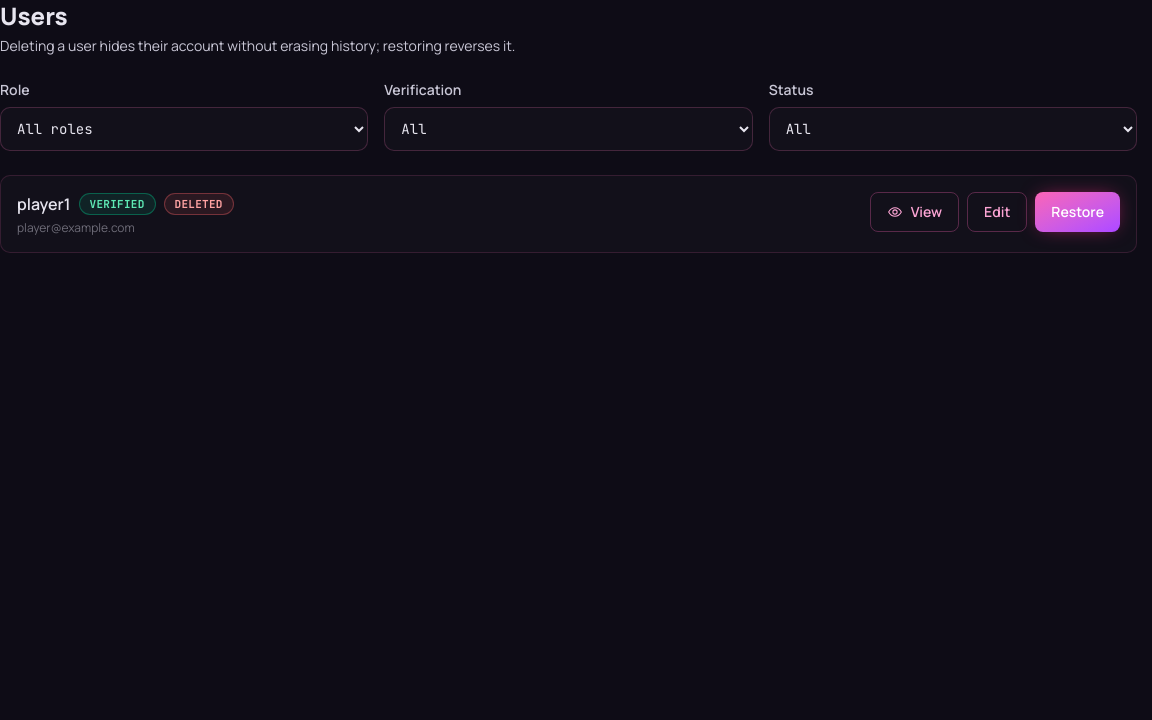
UsersPage › restores a deleted user after confirming
The image size is (1152, 720).
Click the button "Restore": (1078, 212) [1035,192,1120,232]
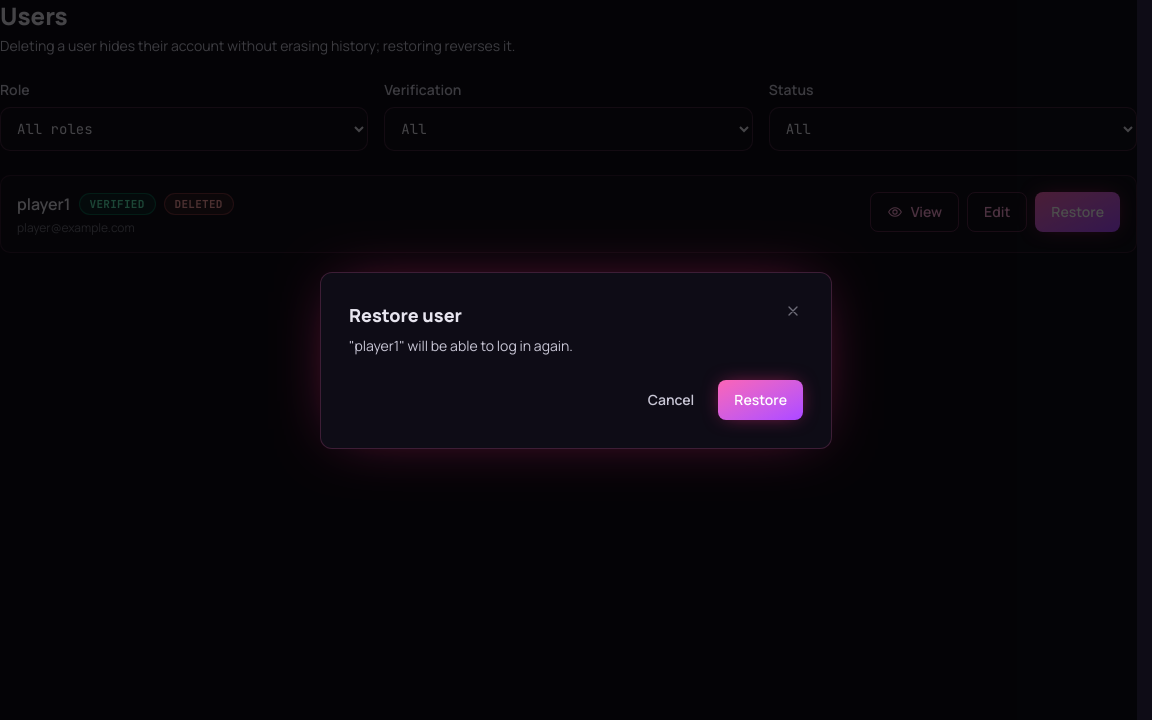
Click the button "Restore": (761, 400) [718,380,803,420]
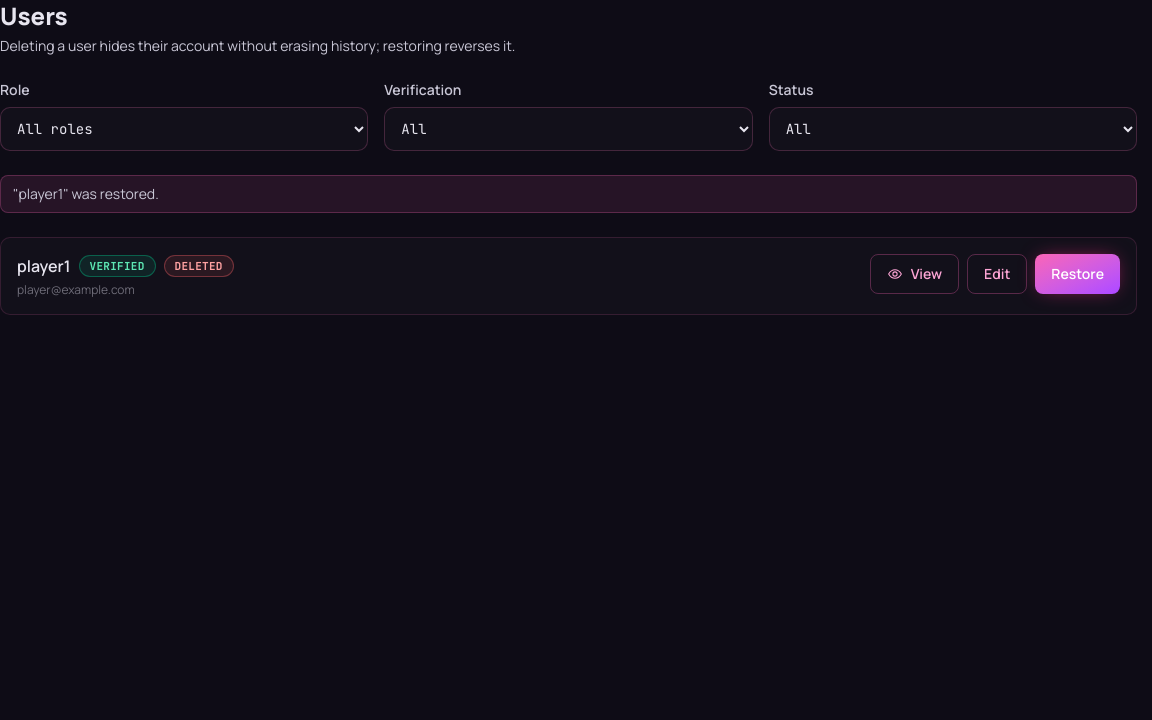
Now the text "\"player1\" was restored." is shown, box [0,175,1137,213]
